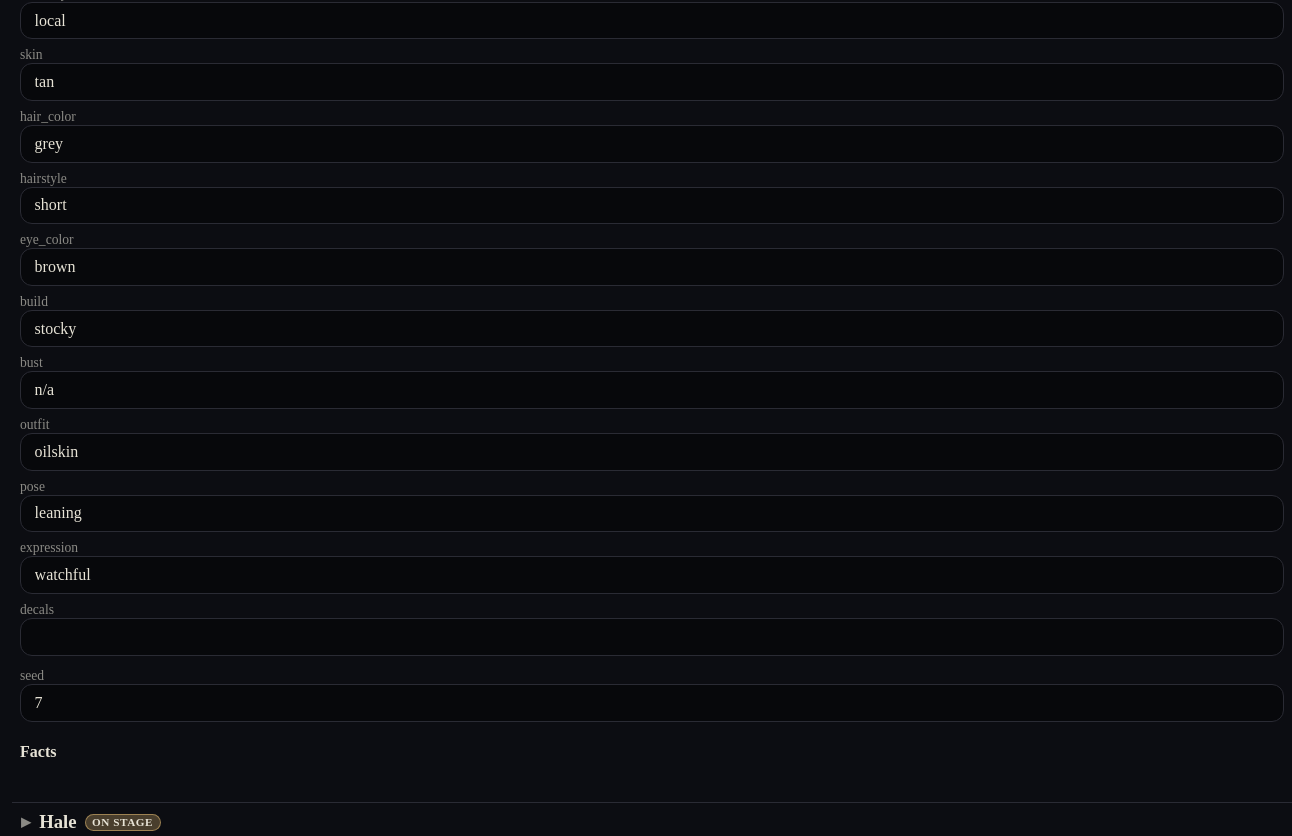
Test: CharactersTab — cards › exports NPCs and the player, then reports where the card went
(page scrolled)
Click the heading "▸ Hale on stage".
click(91, 822)  # box [21, 811, 160, 832]
(page scrolled)
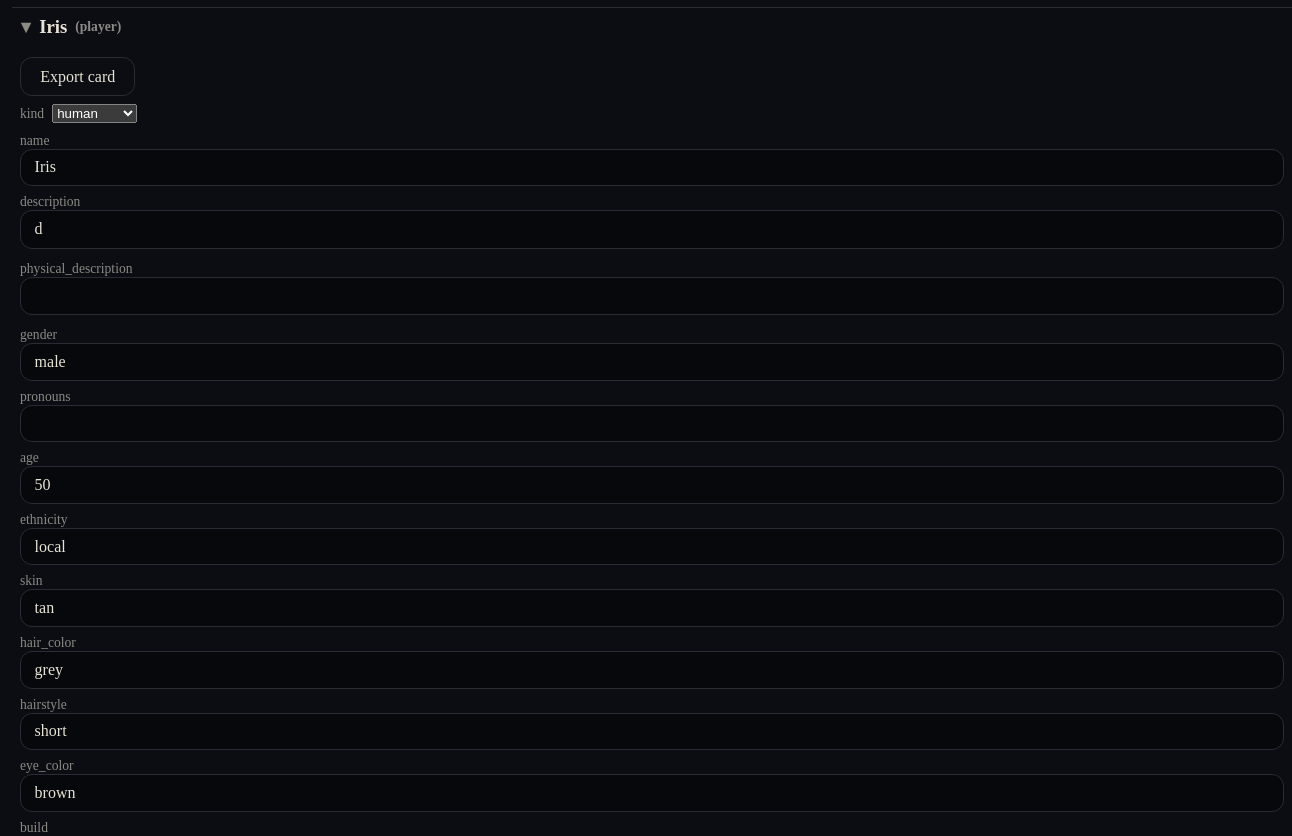
Expected: the number of buttons "Export card" is 2
Click the button "Export card".
click(78, 76)  # box [20, 57, 136, 96]
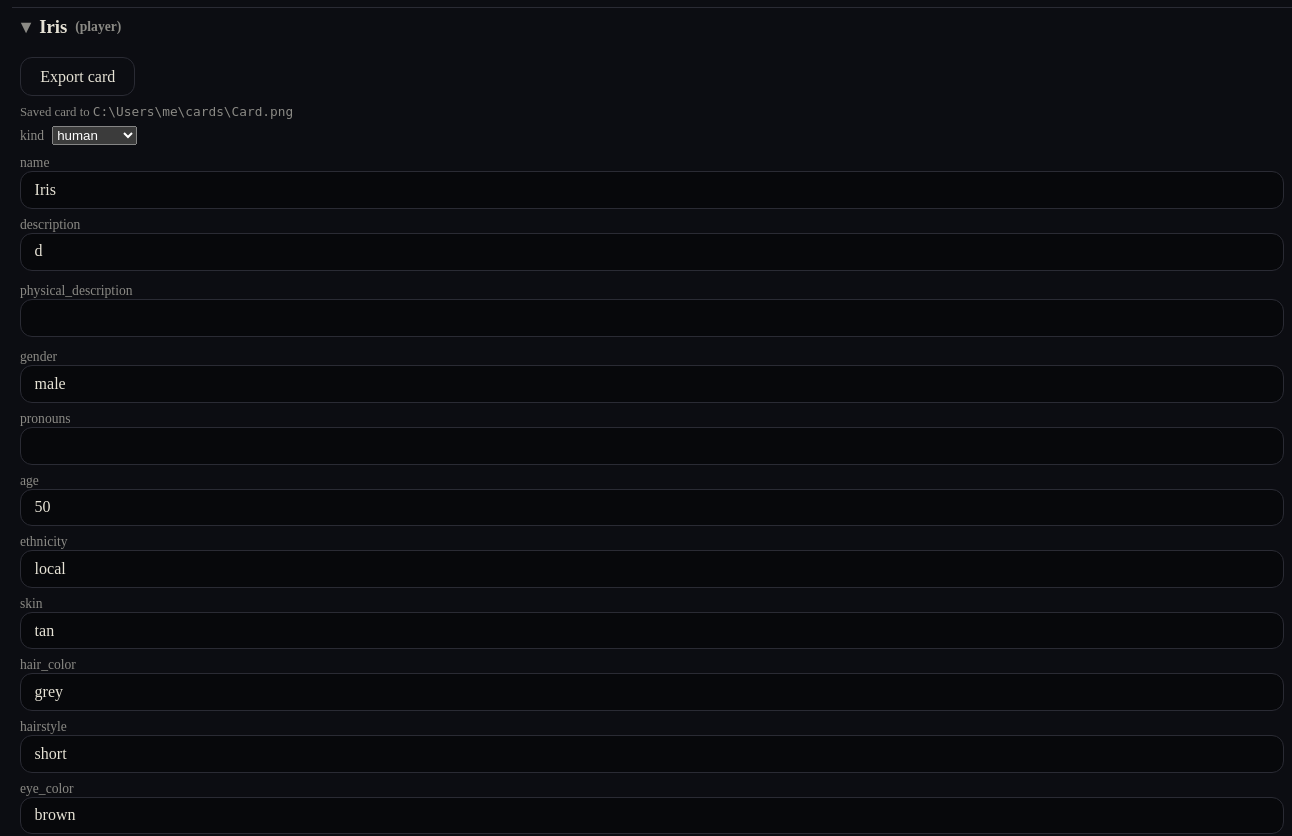
Expected: the text "Saved card to C:\\Users\\me\\cards\\Card.png" is shown, [20, 104, 293, 119]
